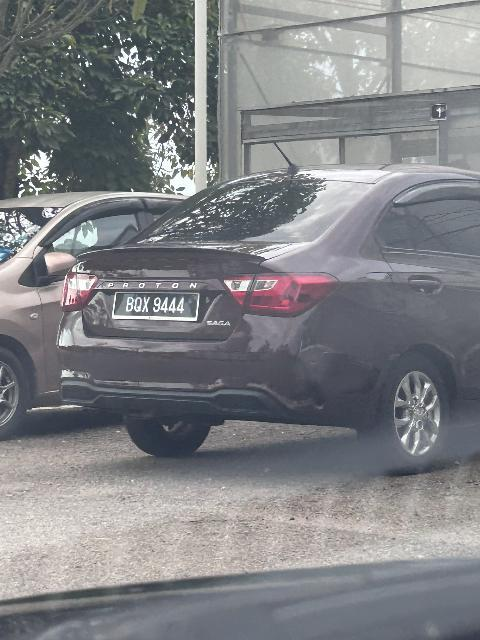BQX9444: (113, 292, 202, 323)
License_Plate: (113, 292, 202, 323)
car: (54, 161, 480, 483)
